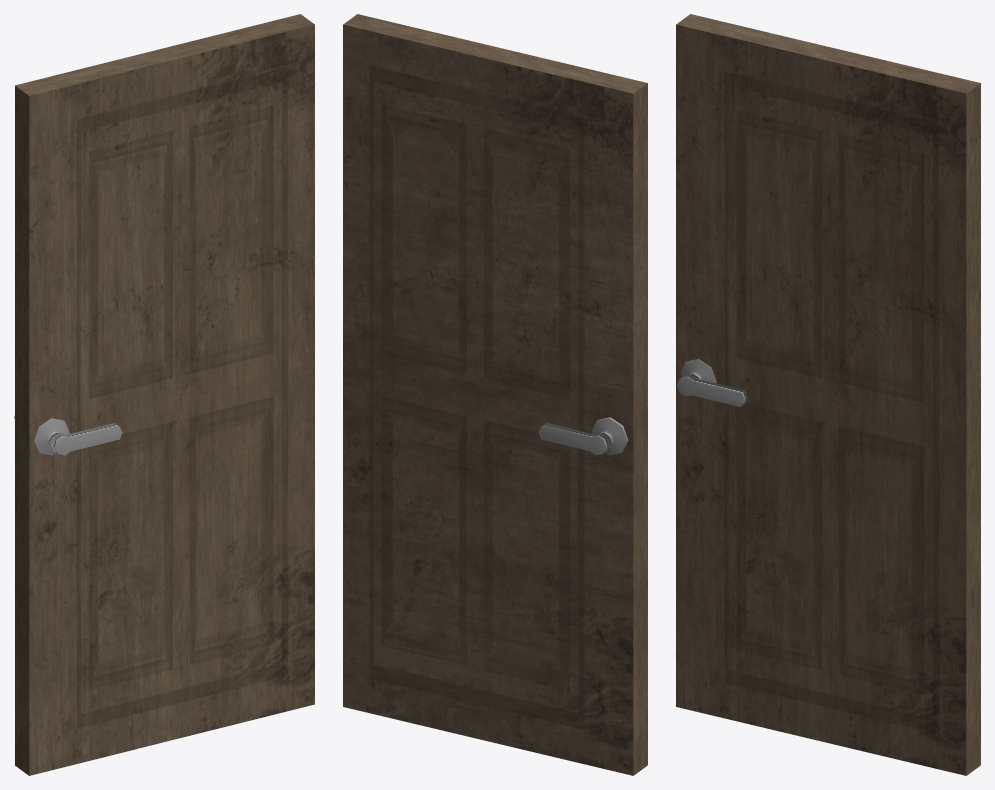
The model's file is WashroomDoor.fbx.
3 views of the same model, side by side, from view 1: azimuth 30°, elevation 25°; view 2: azimuth 150°, elevation 25°; view 3: azimuth 330°, elevation 25° (orthographic).
Parts seen in each view (by area): view 1: WashRoomDoor_low; view 2: WashRoomDoor_low; view 3: WashRoomDoor_low.
Boxes of the visible parts, <box> form: WashRoomDoor_low: <box>14,14,314,775</box>; WashRoomDoor_low: <box>343,14,647,775</box>; WashRoomDoor_low: <box>676,14,980,775</box>.
Size of the model in its own units: 147 by 333 by 37.89.
Materials: 2 (2 with a texture image).
